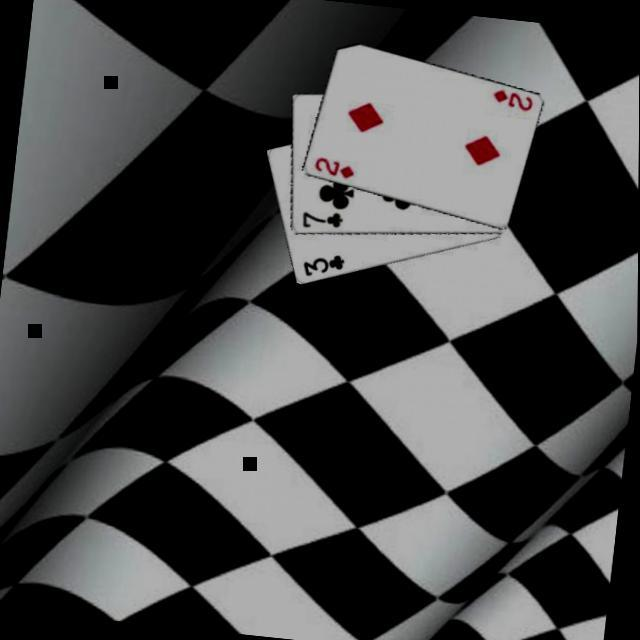2D: (488, 86, 538, 115), (311, 154, 359, 183)
3C: (299, 248, 348, 283)
7C: (298, 208, 346, 235)
